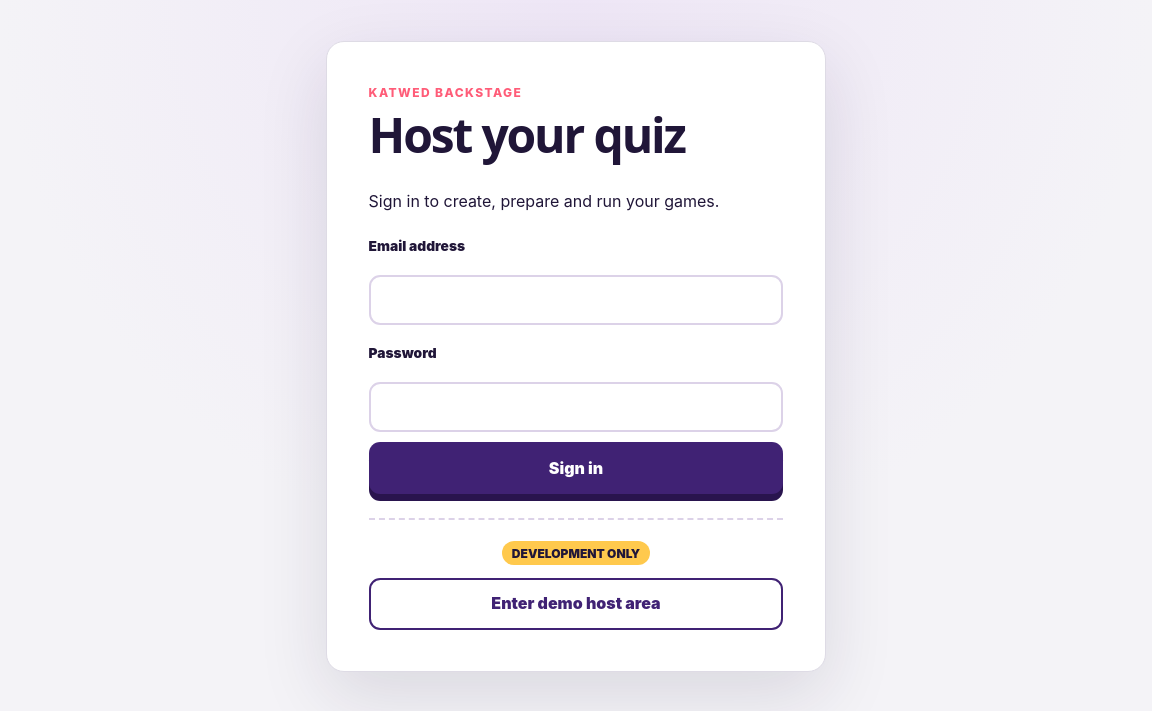
route security › allows an authenticated development host to open the visual lab
(page scrolled)
Click the button "Enter demo host area" at (576, 604), box [369, 578, 783, 630]
(page scrolled)
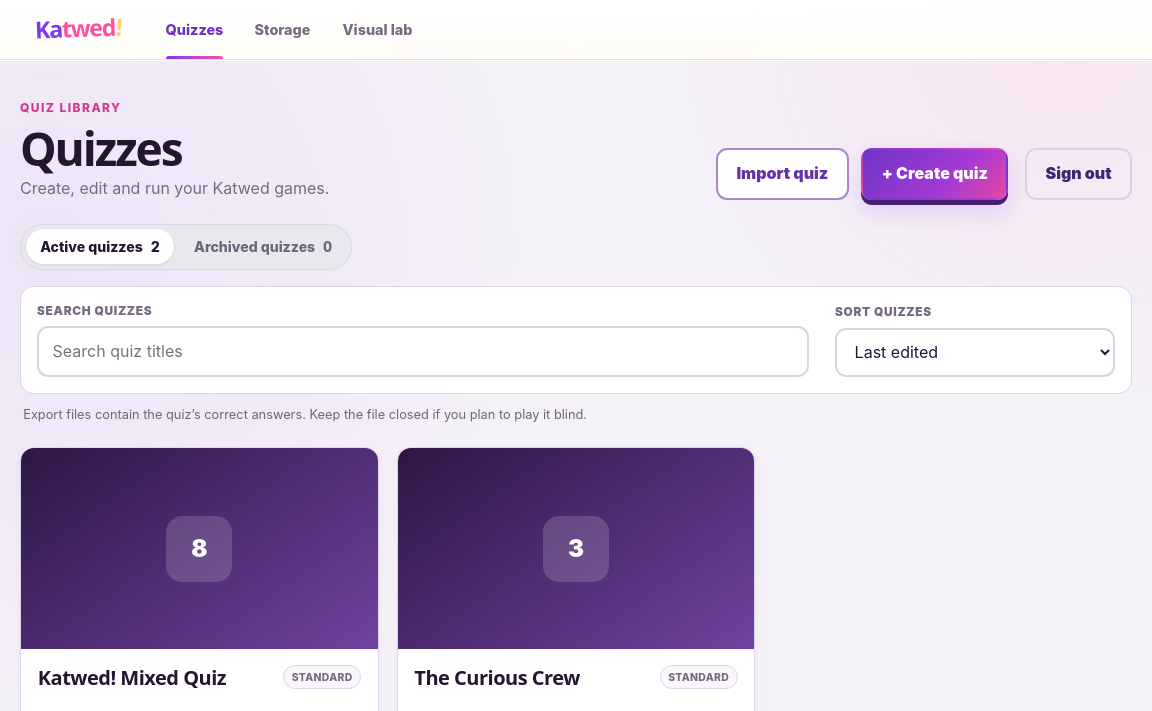
Click the link to "/host/design-system" at (378, 30), box [342, 21, 412, 38]
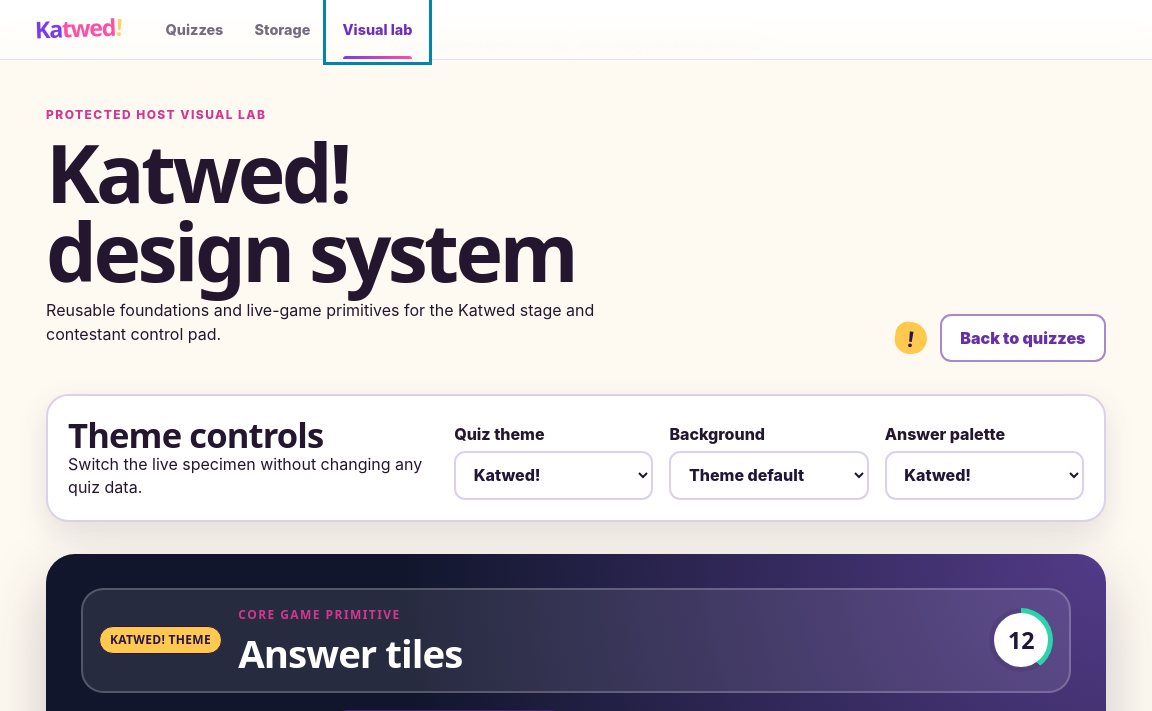
Check: the heading "Katwed! design system" is shown, box [46, 117, 575, 306]
